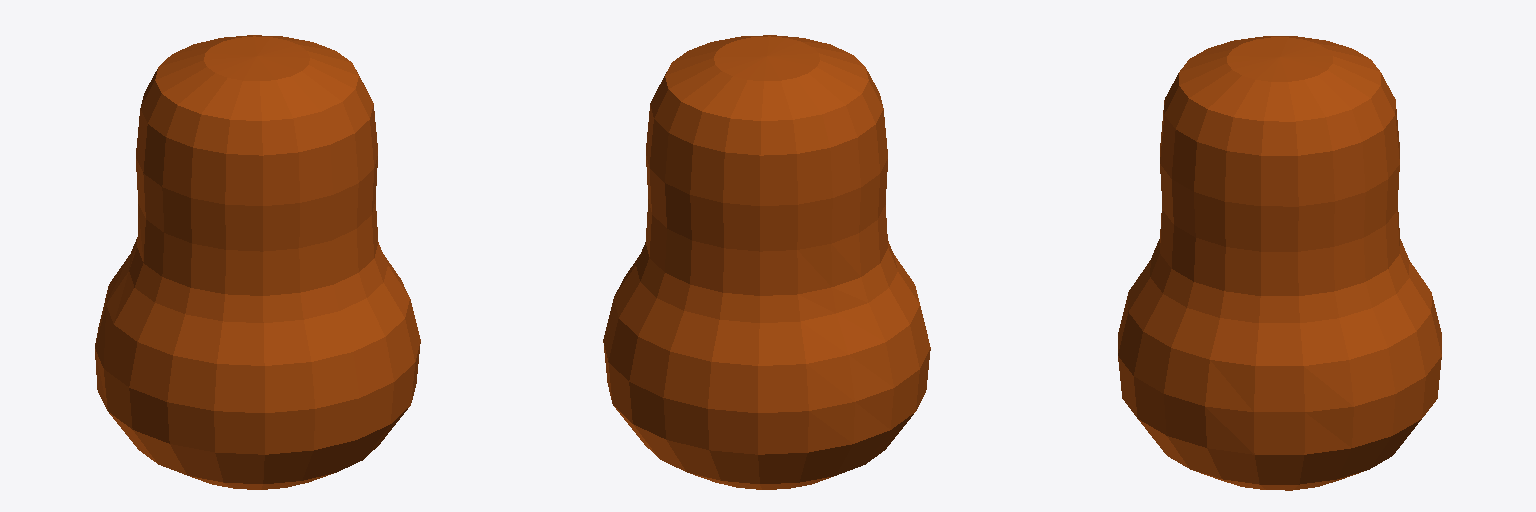
File: squash.obj
3 renders of one model, left to right at view 1: azimuth 30°, elevation 25°; view 2: azimuth 150°, elevation 25°; view 3: azimuth 270°, elevation 25°, orthographic.
Visible parts, largest first — view 1: pumpkin; view 2: pumpkin; view 3: pumpkin.
Part boxes in pixels (left/top/right/bottom): pumpkin: left=95, top=35, right=420, bottom=489; pumpkin: left=603, top=35, right=930, bottom=489; pumpkin: left=1118, top=36, right=1441, bottom=490.
Size of the model in its own units: 128 by 175 by 129.